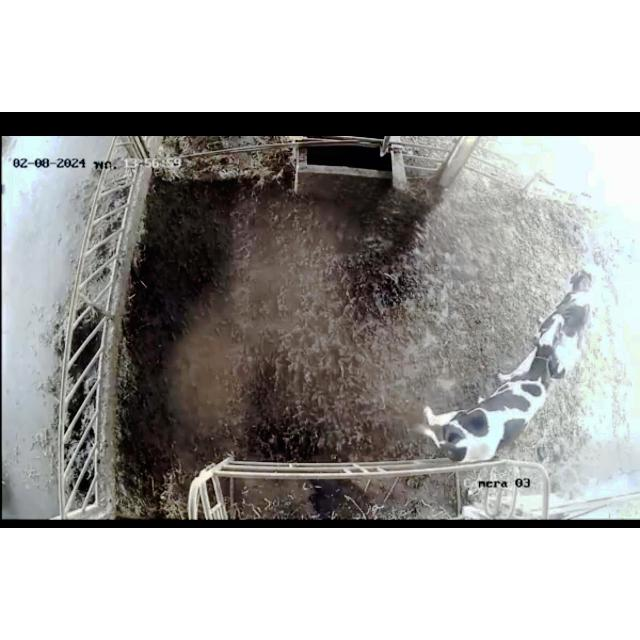propping: (514, 305, 580, 379)
